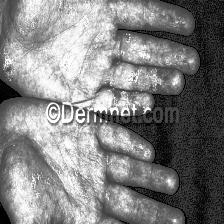Non-Cancerous Skin Condition: (129, 64, 159, 90), (111, 90, 129, 107), (60, 50, 76, 69), (124, 31, 131, 42)
